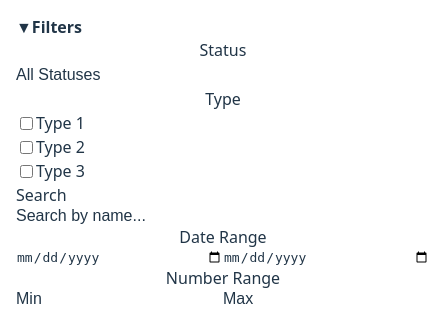
Scenario: FilterPanel › toggles filter panel expansion
Click the button "▼ Filters".
click(49, 27)  # box [16, 16, 82, 38]
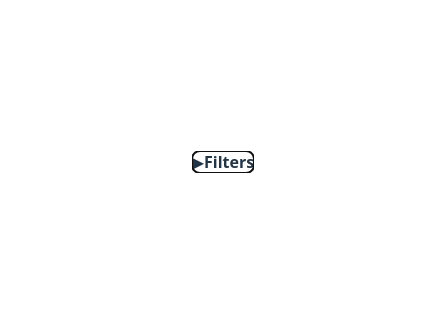
Result: the label labelled "Status" is gone
